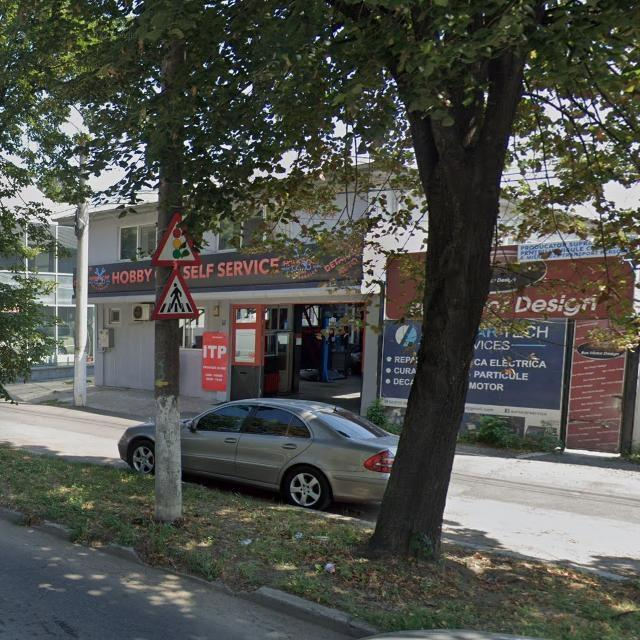warn_crosswalk: (150, 267, 199, 319)
